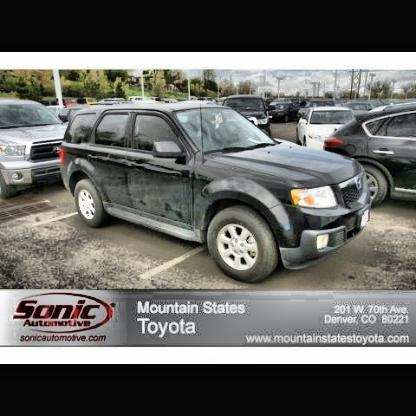Mazda Tribute SUV 2011: (62, 102, 373, 284)
